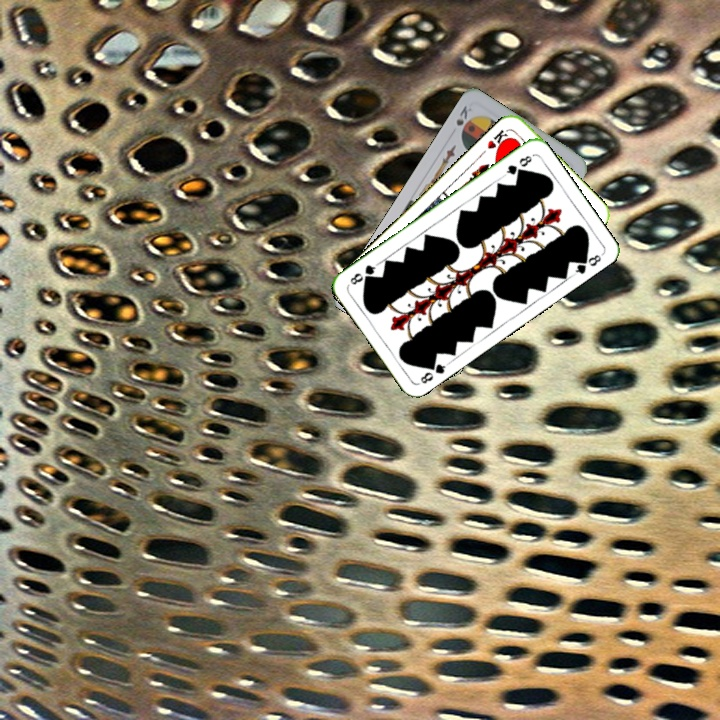G8: (416, 357, 451, 387), (500, 151, 534, 179)
HK: (483, 125, 513, 154)
SK: (452, 101, 474, 128)
